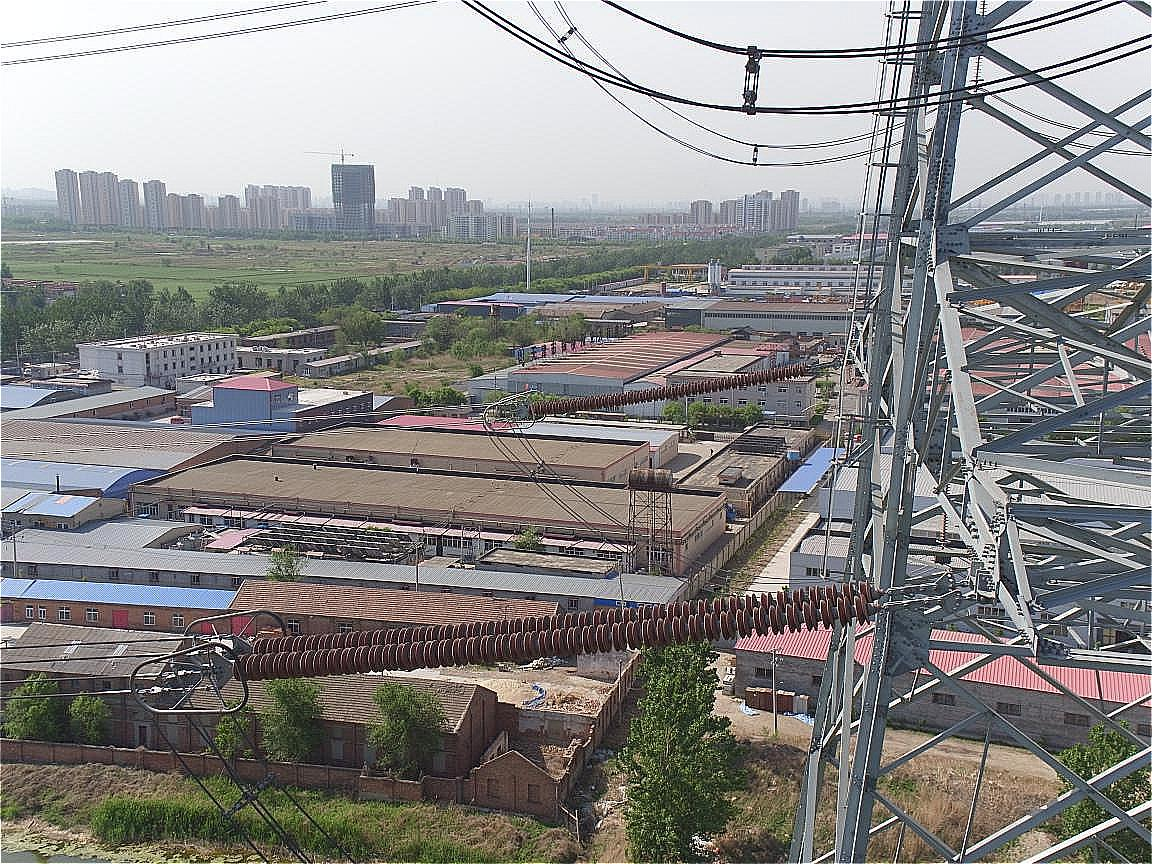insultor2: (229, 576, 887, 691), (522, 348, 835, 431)
